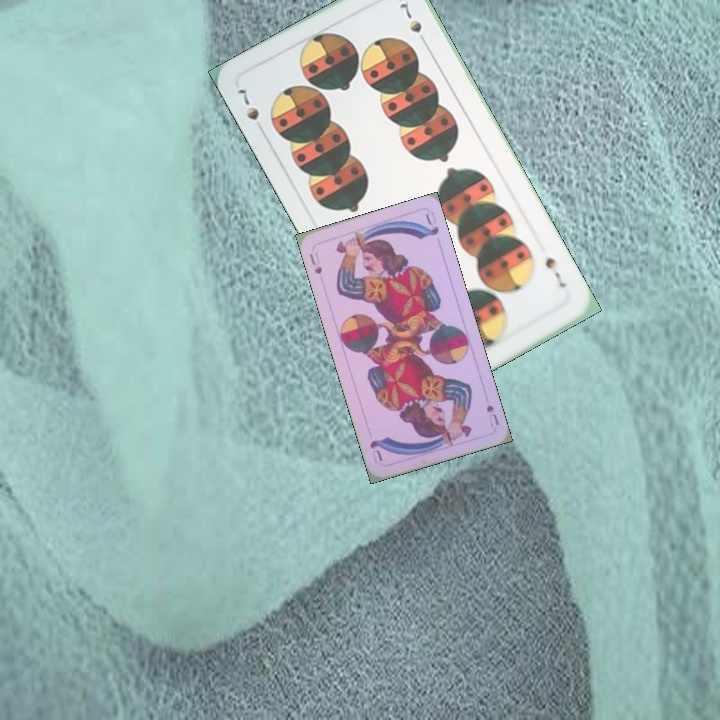S7: (233, 82, 262, 123), (541, 253, 569, 291)
SU: (305, 248, 325, 277), (482, 400, 501, 429)
